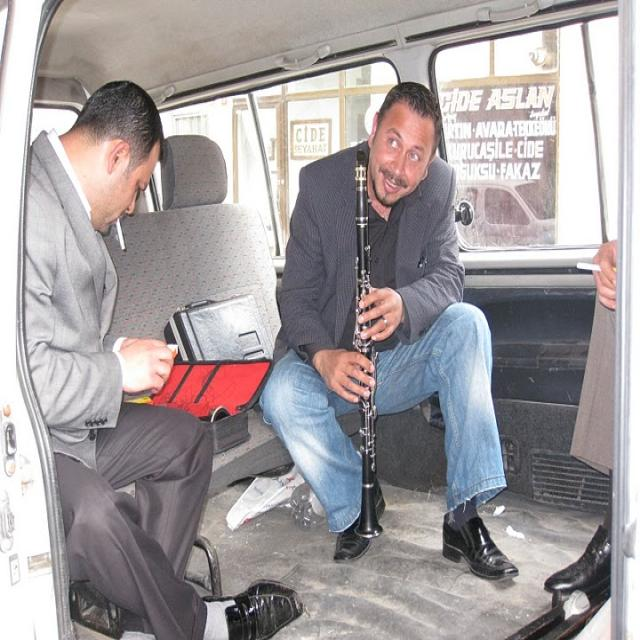clarinet: (348, 144, 389, 537)
